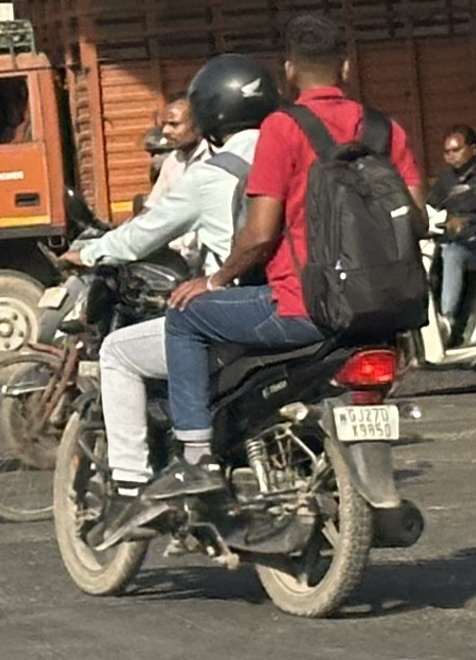BikeWithRider: (46, 10, 429, 641)
Helmet: (182, 42, 280, 156)
NoHelmet: (270, 13, 359, 99)
